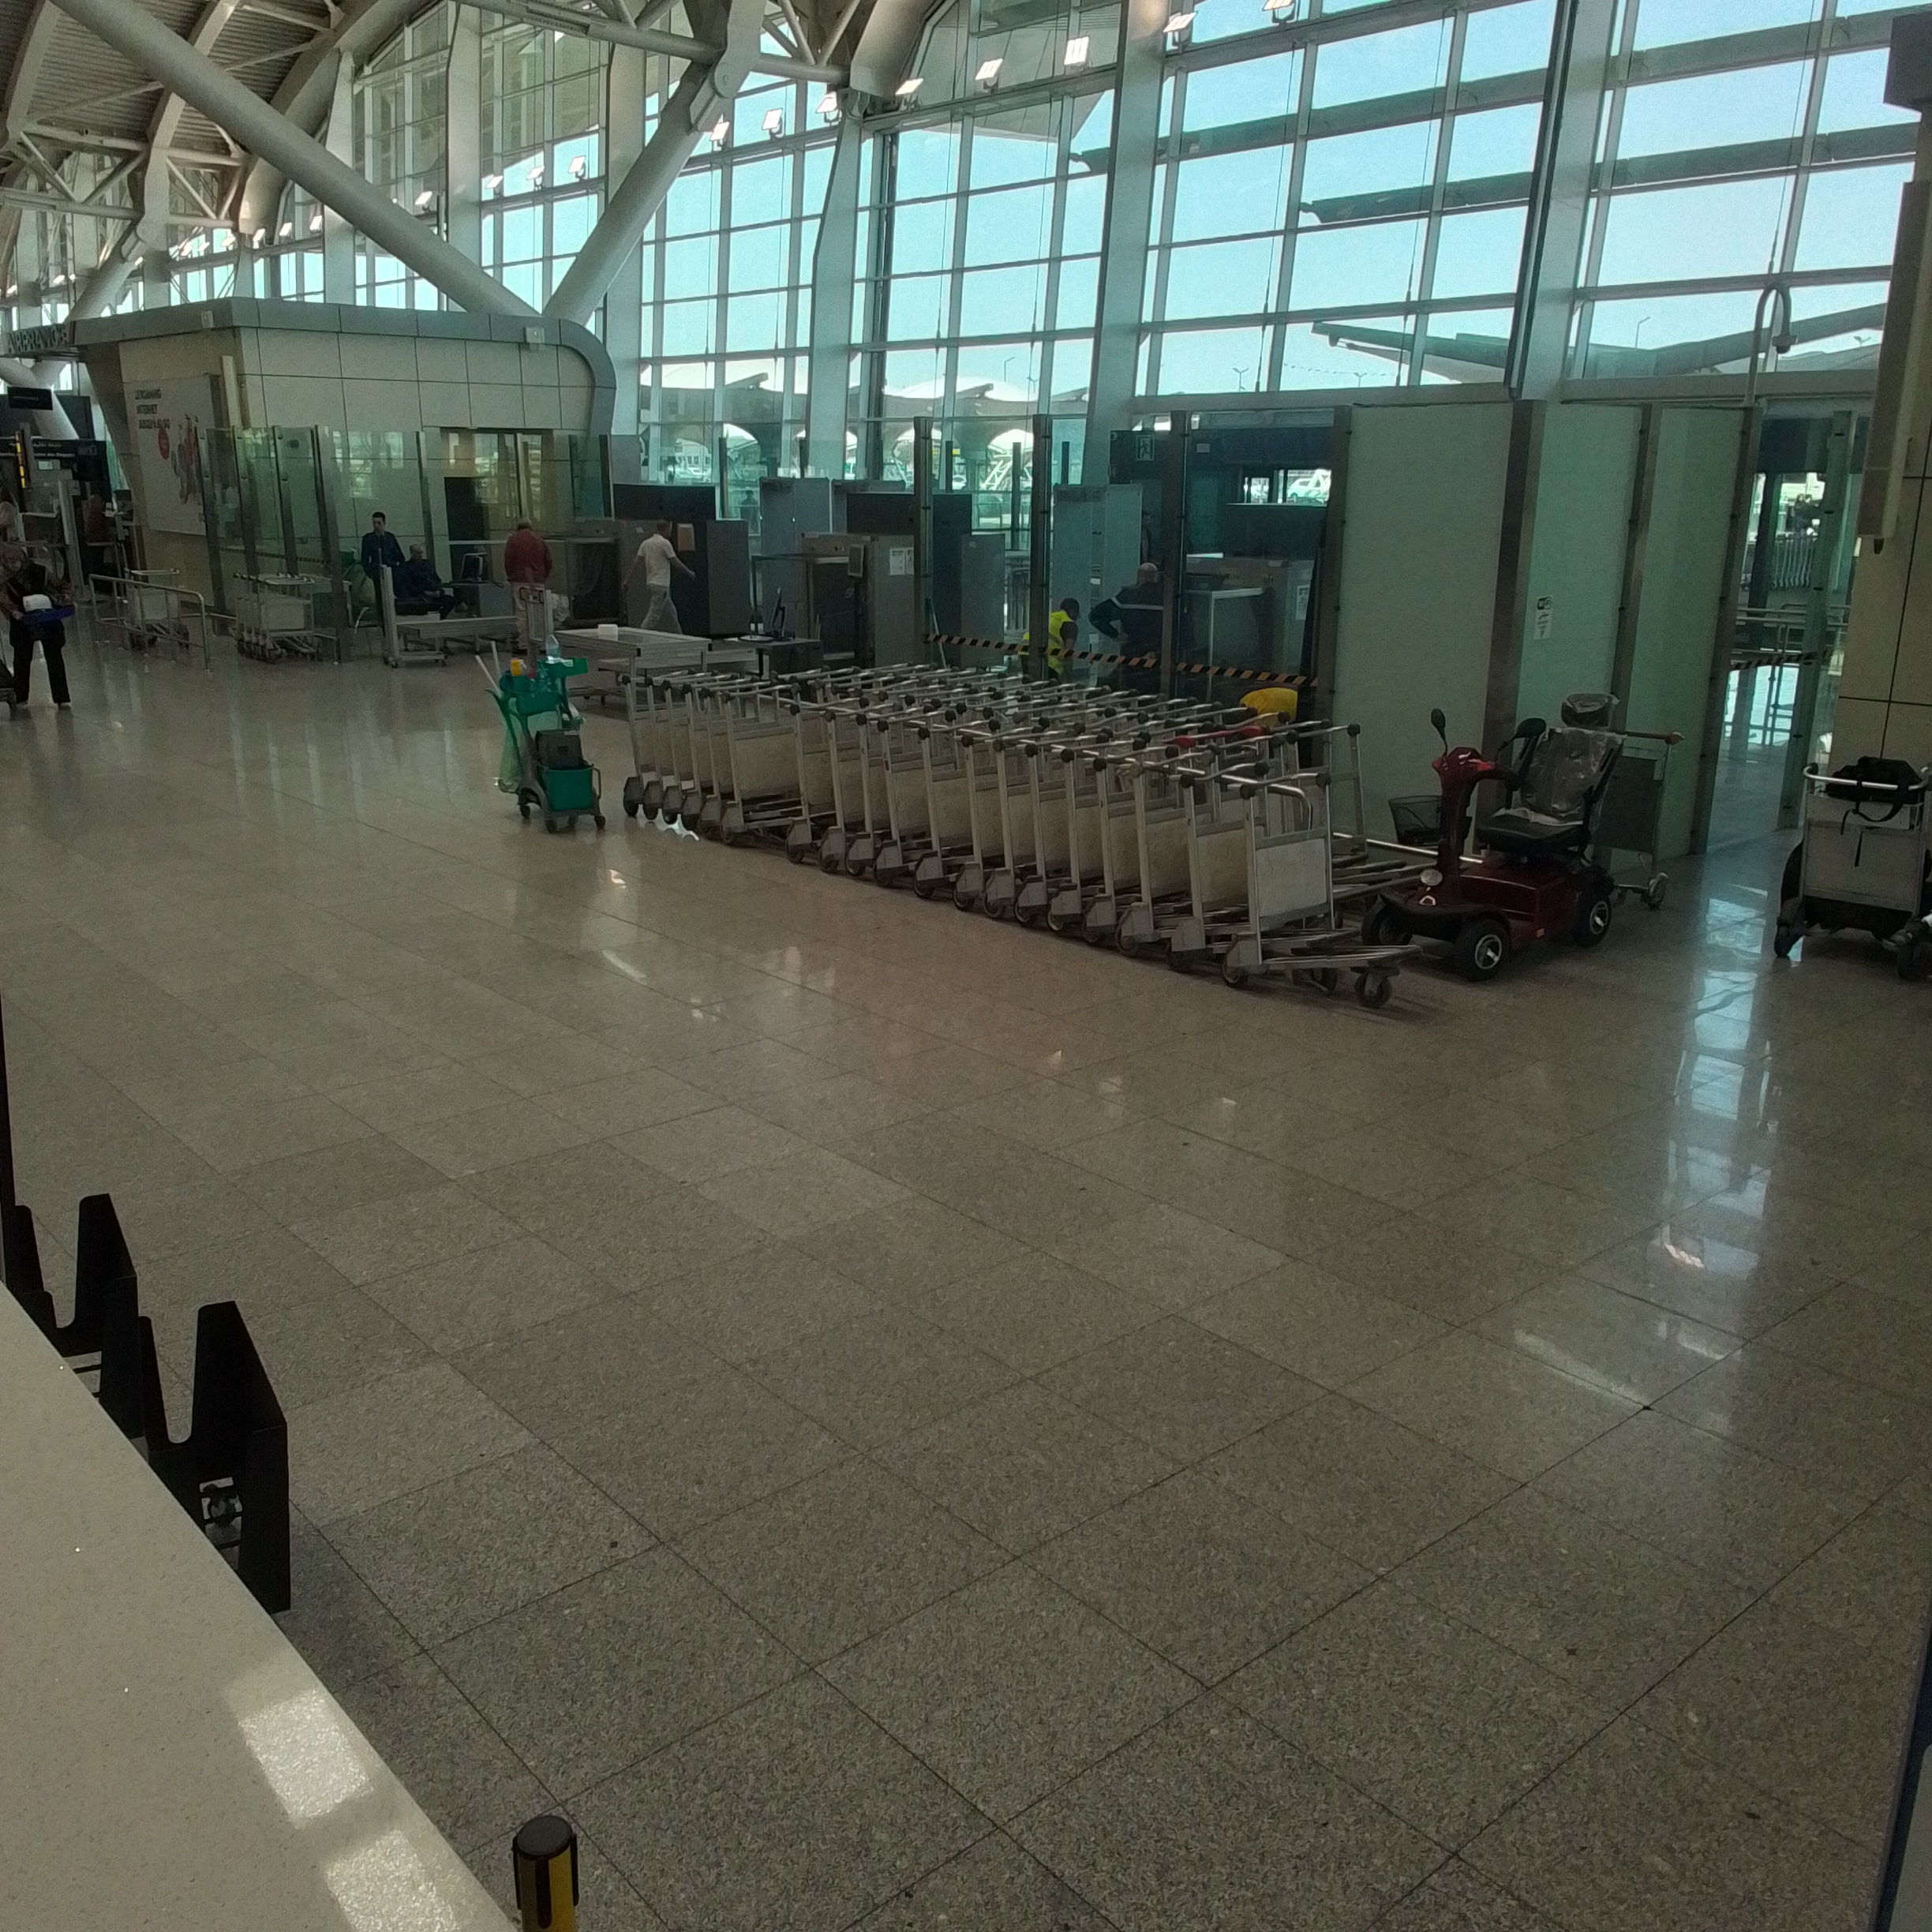airport-trolley: (1237, 770, 1368, 961), (1260, 720, 1405, 881), (1118, 763, 1231, 950), (1175, 771, 1284, 952), (718, 681, 824, 847), (1088, 747, 1168, 941), (1053, 743, 1127, 939), (814, 688, 883, 879), (985, 725, 1053, 916), (1023, 731, 1088, 925), (954, 718, 1012, 902), (876, 711, 938, 885), (851, 699, 906, 879), (909, 711, 964, 886), (660, 671, 715, 830), (688, 678, 740, 839), (789, 692, 837, 855), (635, 658, 678, 824), (616, 665, 656, 823)
